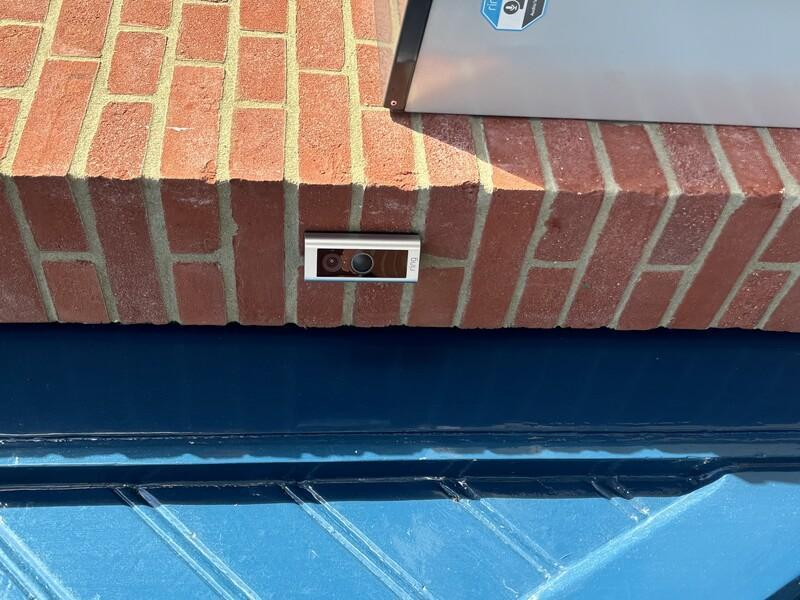doorbell: (312, 299, 374, 432)
